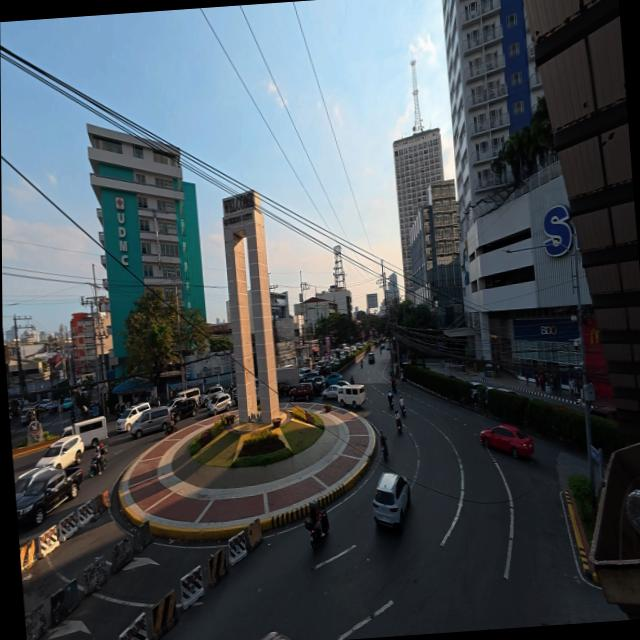car: (367, 470, 411, 534), (479, 420, 535, 461)
trucks: (13, 460, 82, 524)
vans: (125, 406, 176, 439)
